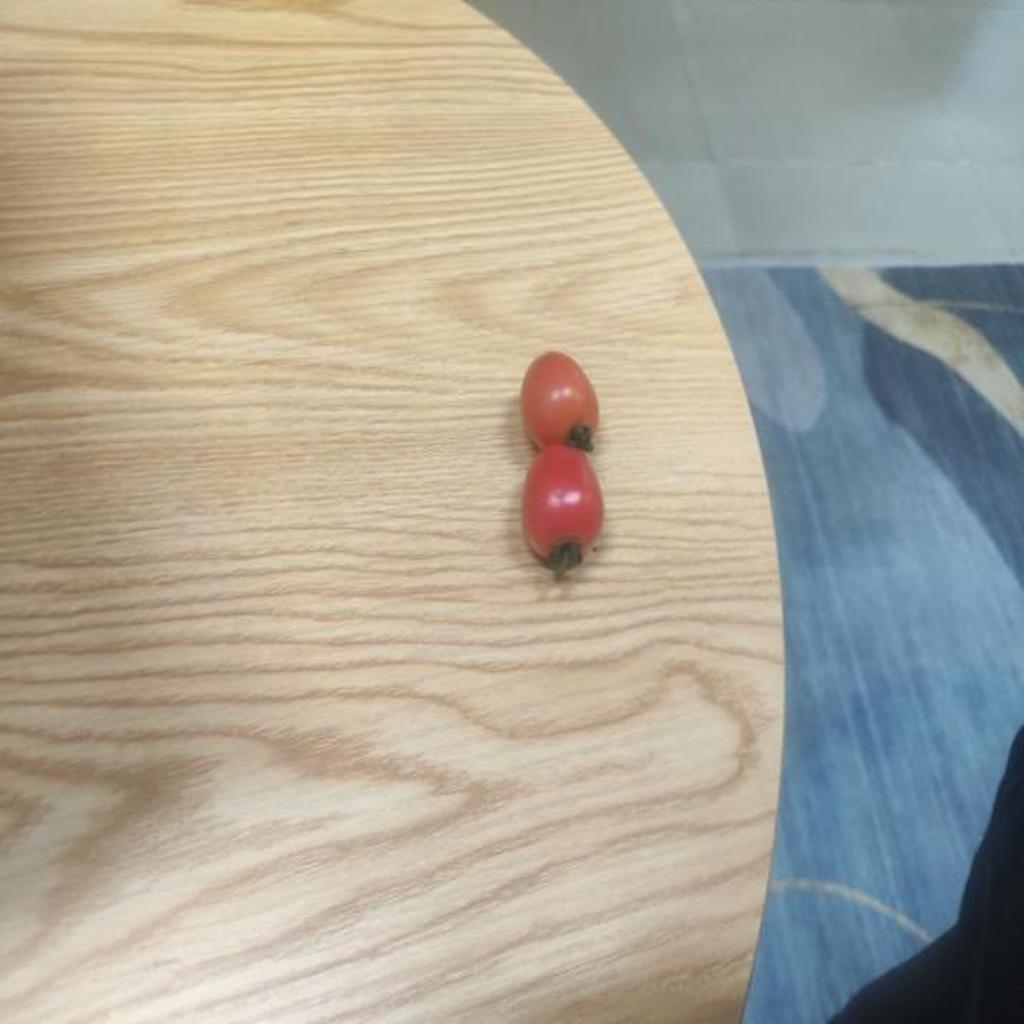tomato: (504, 442, 606, 571), (513, 346, 608, 450)
